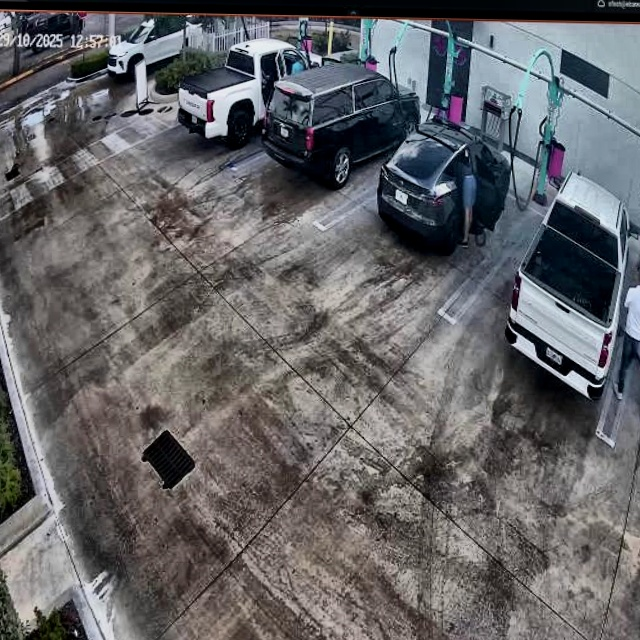Car: (265, 61, 419, 186), (380, 118, 511, 246)
